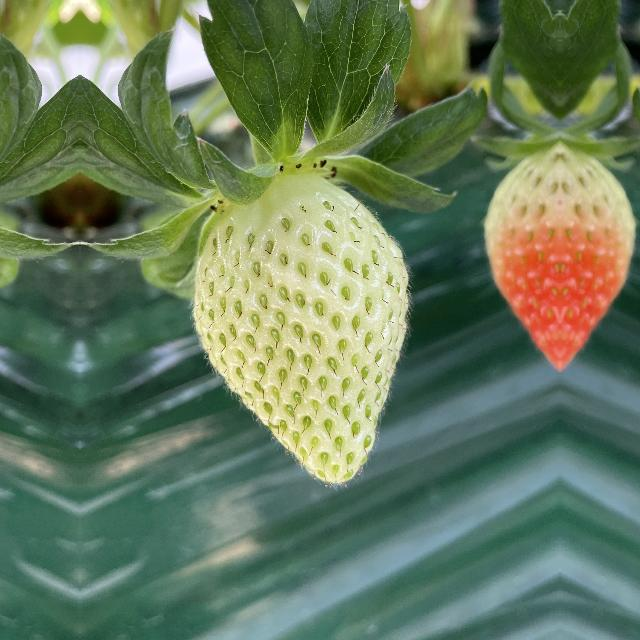Health_25: (192, 176, 416, 487)
